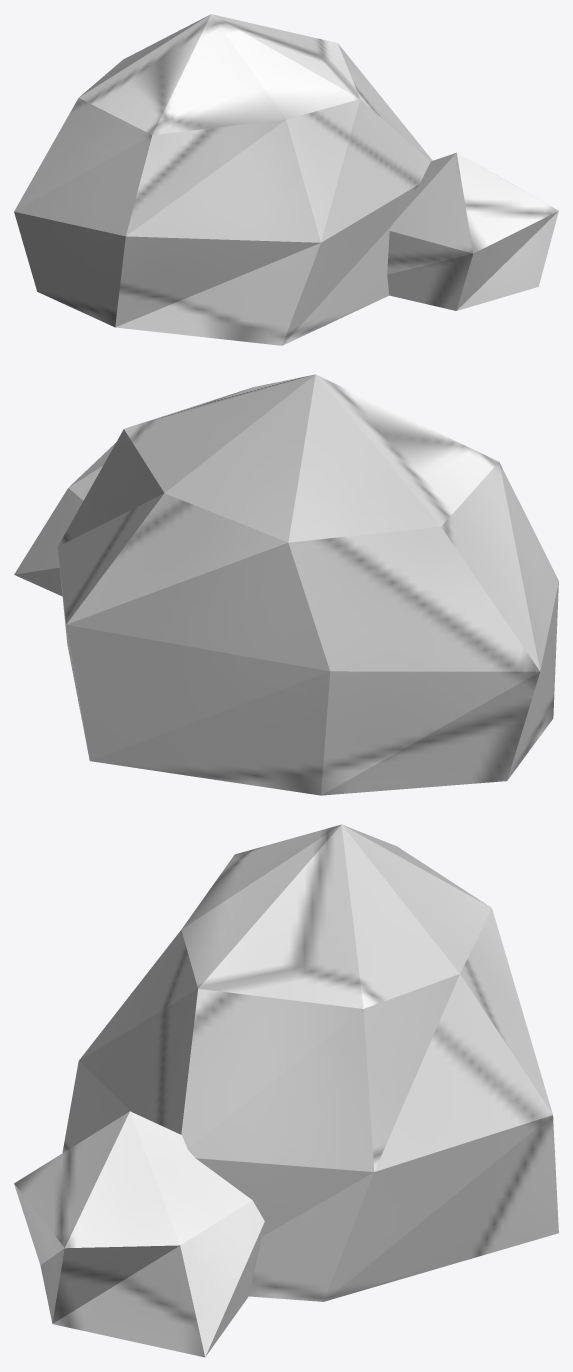
File: boulder_4.obj
3 views of the same model, one above another, from view 1: azimuth 30°, elevation 25°; view 2: azimuth 150°, elevation 25°; view 3: azimuth 270°, elevation 25° (orthographic). The views are drawn at different scales.
Parts seen in each view (by area): view 1: boulder_4; view 2: boulder_4; view 3: boulder_4.
Boxes of the visible parts, bbox=[...] form: boulder_4: bbox=[14, 14, 558, 345]; boulder_4: bbox=[14, 374, 558, 795]; boulder_4: bbox=[14, 824, 558, 1357].
Size of the model in its own units: 0.7494 by 0.3954 by 0.5606.
